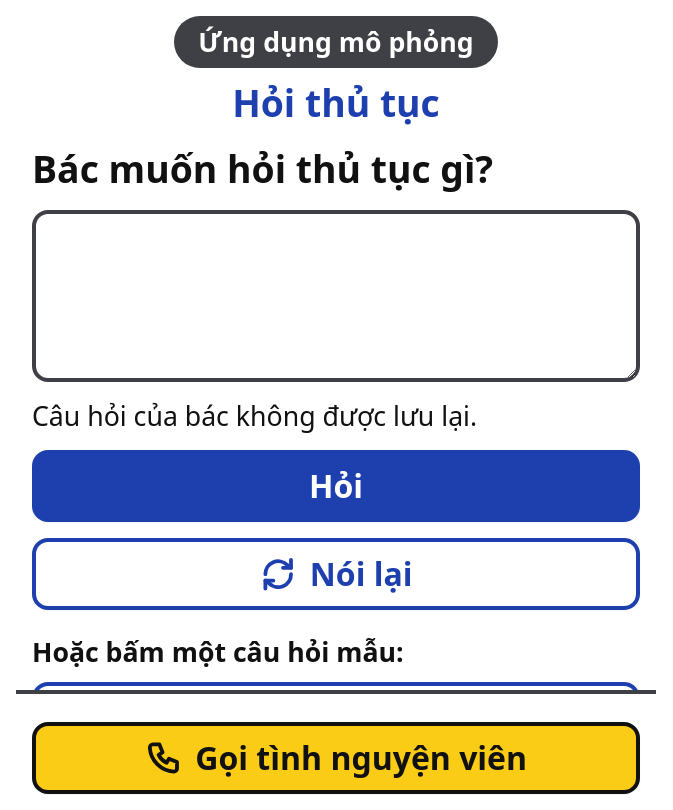
Test: điều hướng theo dấu # › Gọi tình nguyện viên ở màn hỏi chỉ hướng dẫn thật, không giả vờ đã báo
Click the button with test id "btn-call" at (336, 758), box [32,722,640,794]
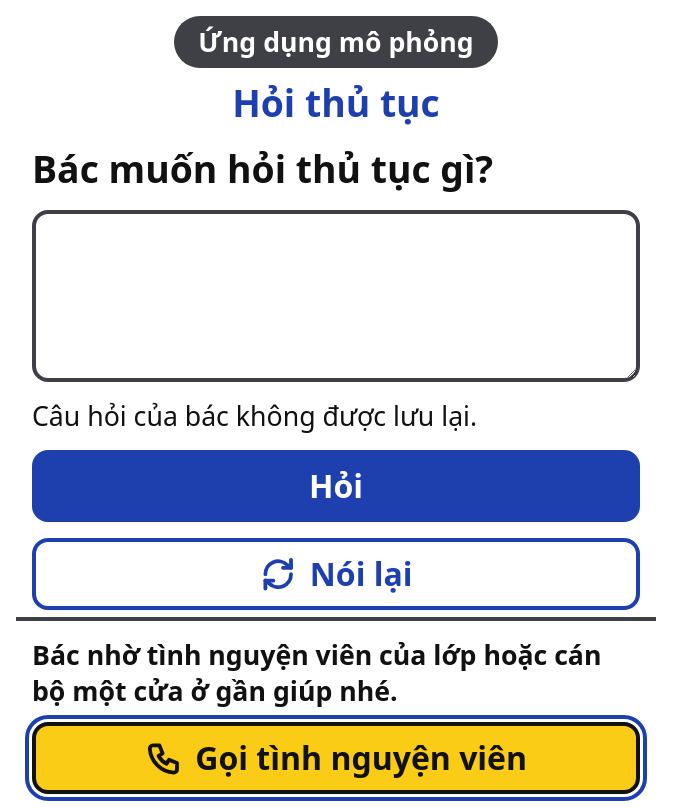
Expected: the message with test id "volunteer-note" reads "Bác nhờ tình nguyện viên của lớp hoặc cán bộ một cửa ở gần giúp nhé.", [32,637,602,709]
